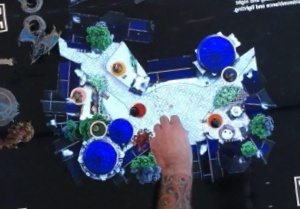blue: (219, 63, 240, 84)
green: (88, 117, 110, 139)
orange: (206, 110, 225, 129)
pink: (68, 84, 89, 105)
red: (126, 99, 150, 120)
yellow: (109, 57, 128, 76)
